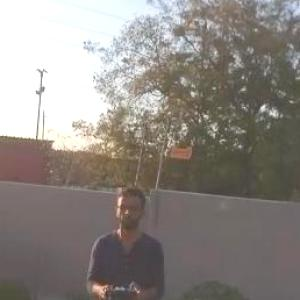follow: (82, 181, 176, 299)
